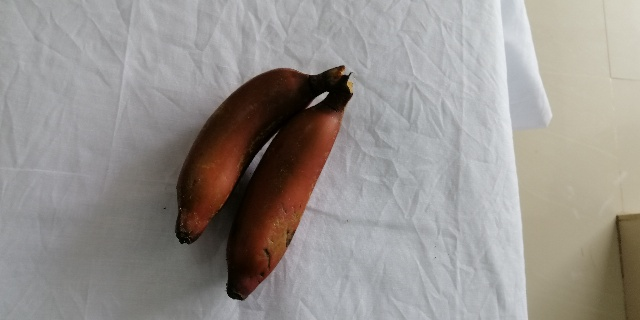banana_red: (175, 61, 341, 244), (226, 71, 350, 303)
